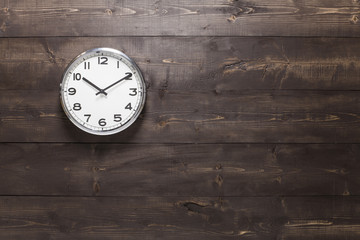clock: (61, 53, 141, 130)
